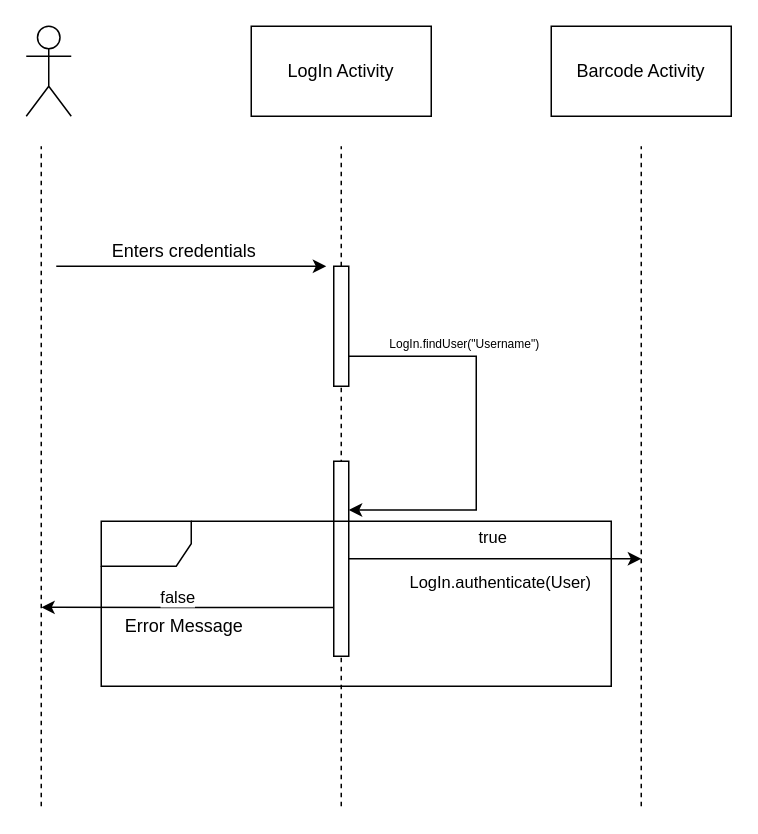
Some shapes in this 758 by 834 pixel diagram are drawn without their labels. Here are the shapes that lost their labels. From the top down, the box of each, then its label:
(25, 25, 71, 116): User
(100, 520, 611, 686): ALT
